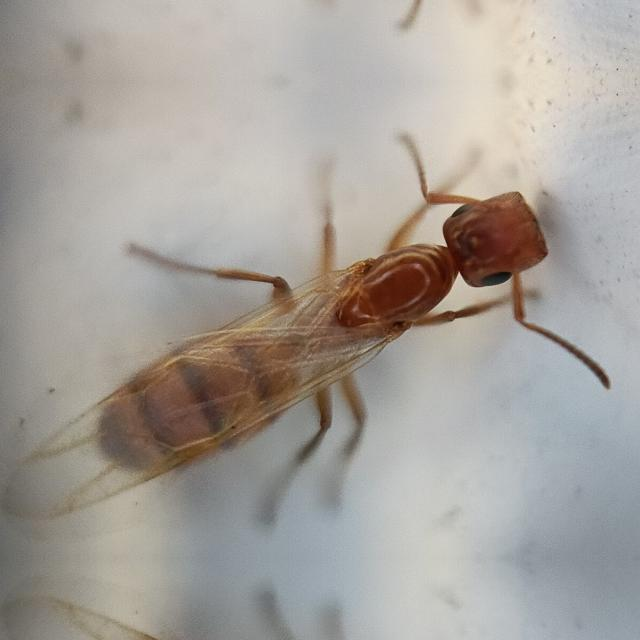Colobopsis: (54, 136, 626, 522)
